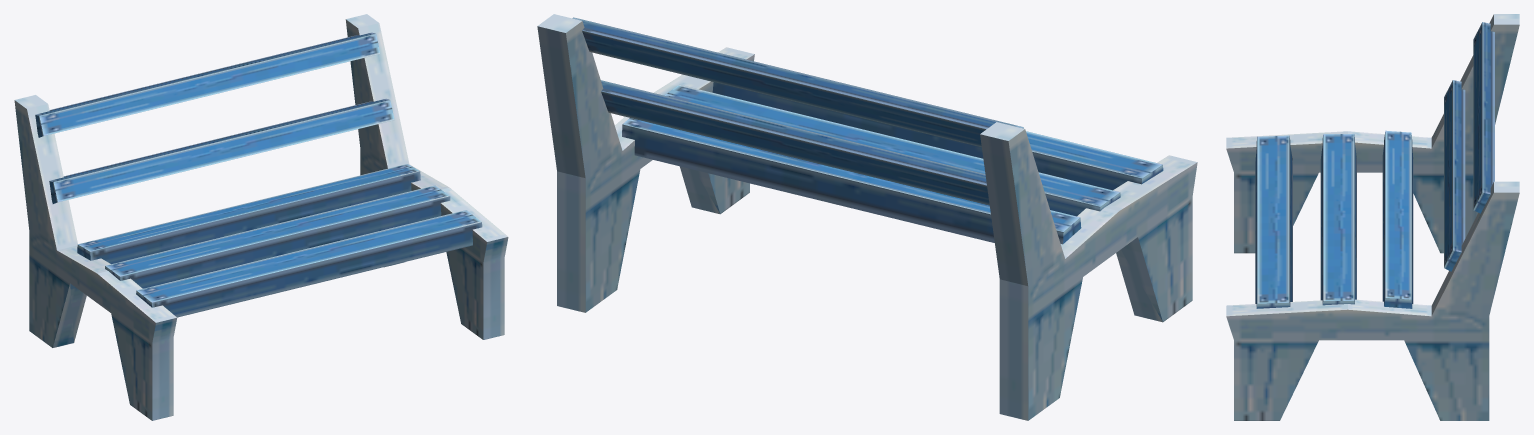
Rendered from nml-bd048.glb.
3 views of the same model, side by side, from view 1: azimuth 30°, elevation 25°; view 2: azimuth 150°, elevation 25°; view 3: azimuth 270°, elevation 25° (orthographic). The views are drawn at different scales.
Visible parts, largest first — view 1: geom_node_0; view 2: geom_node_0; view 3: geom_node_0.
Part boxes in pixels (x1=…): geom_node_0: x1=14, y1=14, x2=508, y2=420; geom_node_0: x1=537, y1=14, x2=1197, y2=420; geom_node_0: x1=1226, y1=14, x2=1519, y2=420.
Size of the model in its own units: 1.83 by 1.09 by 1.27.
Materials: 1 (1 with a texture image).
